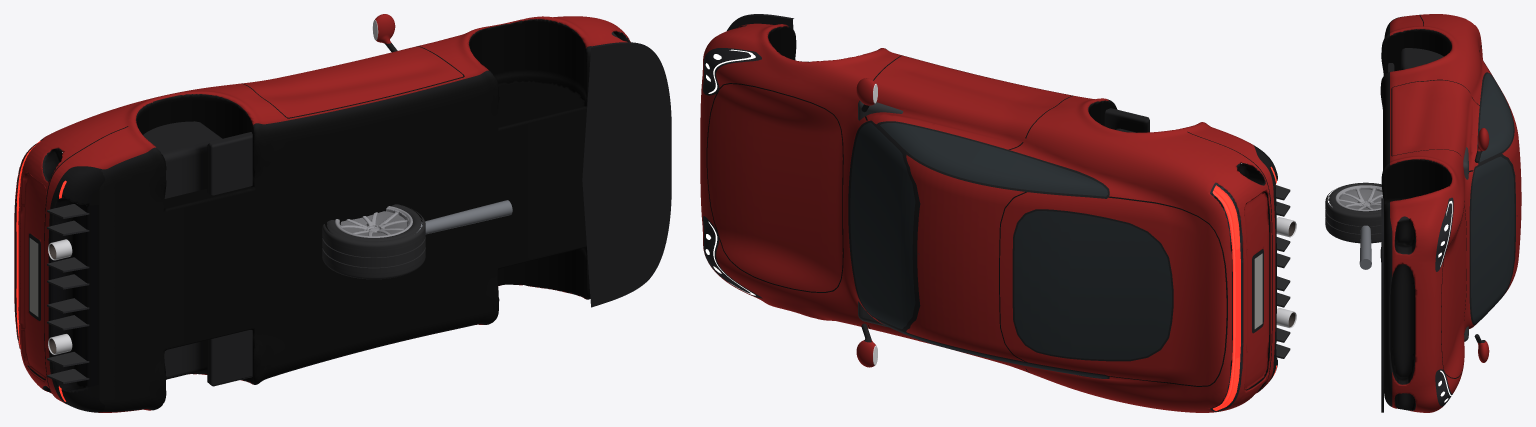
File: exterior.glb
3 views of the same model, side by side, from view 1: azimuth 30°, elevation 25°; view 2: azimuth 150°, elevation 25°; view 3: azimuth 270°, elevation 25° (orthographic). The views are drawn at different scales.
Parts seen in each view (by area): view 1: body, cabin, wheel_rear, wheel_front, arm; view 2: body, glass, cabin; view 3: body, glass, wheel_rear, wheel_front, cabin, arm.
Boxes of the visible parts, x1=… form: body: x1=14, y1=14, x2=671, y2=412; cabin: x1=143, y1=121, x2=252, y2=386; wheel_rear: x1=322, y1=204, x2=425, y2=279; wheel_front: x1=322, y1=217, x2=425, y2=274; arm: x1=416, y1=200, x2=512, y2=234; body: x1=700, y1=14, x2=1296, y2=412; glass: x1=850, y1=122, x2=1171, y2=378; cabin: x1=858, y1=100, x2=1149, y2=327; body: x1=1380, y1=14, x2=1521, y2=412; glass: x1=1471, y1=73, x2=1514, y2=323; wheel_rear: x1=1325, y1=182, x2=1382, y2=243; wheel_front: x1=1325, y1=195, x2=1381, y2=239; cabin: x1=1387, y1=48, x2=1517, y2=341; arm: x1=1359, y1=225, x2=1371, y2=269.
Bounding box in the file's own units: 4.52 × 2.13 × 1.62.
